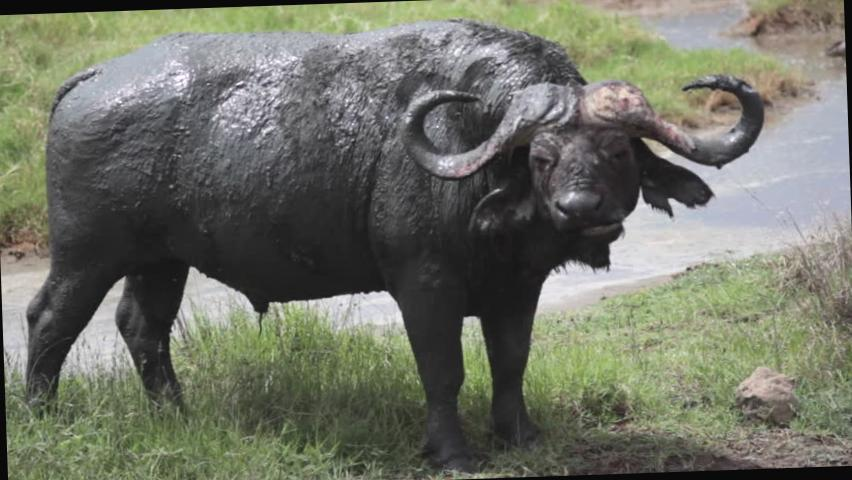Buffalo: (41, 0, 833, 480)
